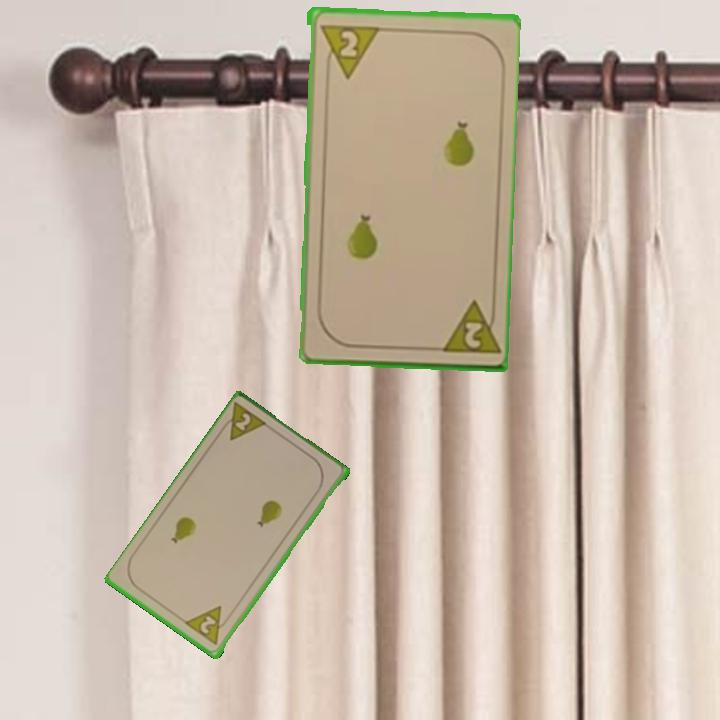2p: (315, 20, 379, 81), (215, 400, 271, 444), (183, 603, 233, 649), (460, 318, 484, 351)
